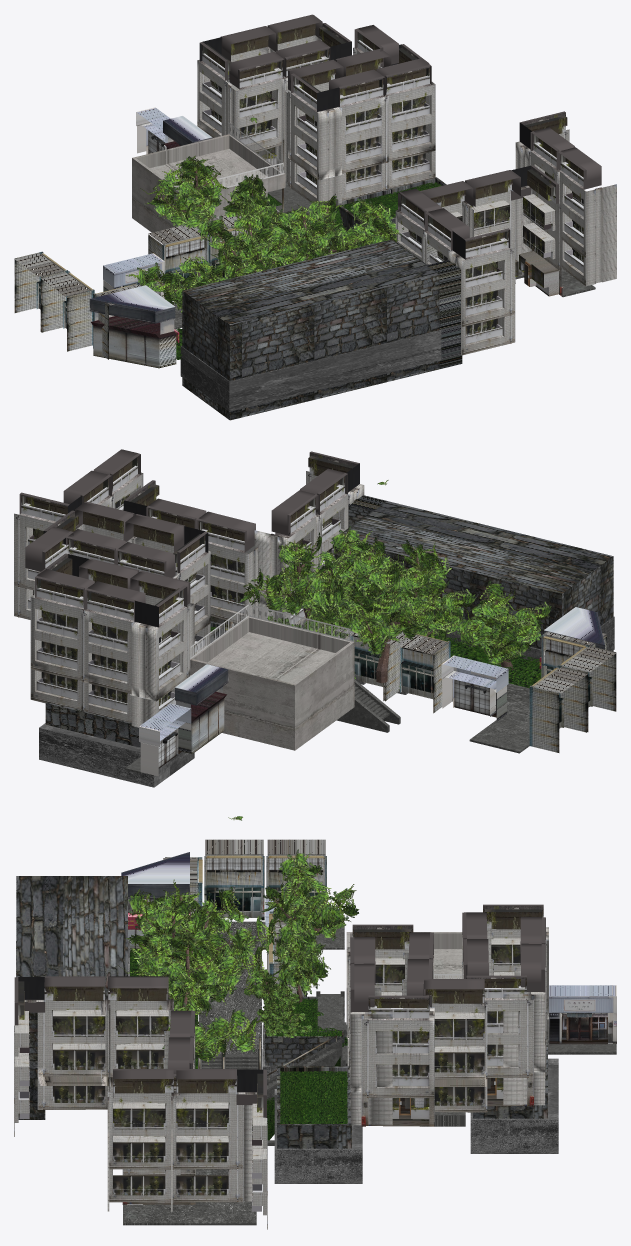
The model's file is city_street (1).glb.
The picture shows the model from 3 angles, top to bottom: view 1: azimuth 30°, elevation 25°; view 2: azimuth 150°, elevation 25°; view 3: azimuth 270°, elevation 25°; orthographic projection. The views are drawn at different scales.
Parts seen in each view (by area): view 1: Cube.026, c83d86f3dd59d547cc310ce502d8f9ac.004_c83d86f3dd59d547cc310ce, c83d86f3dd59d547cc310ce502d8f9ac.005_c83d86f3dd59d547cc310ce, c83d86f3dd59d547cc310ce502d8f9ac.002_c83d86f3dd59d547cc310ce, c83d86f3dd59d547cc310ce502d8f9ac.001_c83d86f3dd59d547cc310ce, c83d86f3dd59d547cc310ce502d8f9ac.003_c83d86f3dd59d547cc310ce, Cube.030, Cube.022, 3-Photoroom.001, object 4, object 2, object 3 (+11 smaller); view 2: c83d86f3dd59d547cc310ce502d8f9ac.005_c83d86f3dd59d547cc310ce, Cube.026, Cube.022, c83d86f3dd59d547cc310ce502d8f9ac.004_c83d86f3dd59d547cc310ce, c83d86f3dd59d547cc310ce502d8f9ac.002_c83d86f3dd59d547cc310ce, c83d86f3dd59d547cc310ce502d8f9ac.001_c83d86f3dd59d547cc310ce, c83d86f3dd59d547cc310ce502d8f9ac.003_c83d86f3dd59d547cc310ce, Cube.033, object 3, object 2, 22 (1).001, 3-Photoroom.003 (+15 smaller); view 3: c83d86f3dd59d547cc310ce502d8f9ac.003_c83d86f3dd59d547cc310ce, c83d86f3dd59d547cc310ce502d8f9ac.002_c83d86f3dd59d547cc310ce, c83d86f3dd59d547cc310ce502d8f9ac.004_c83d86f3dd59d547cc310ce, c83d86f3dd59d547cc310ce502d8f9ac.005_c83d86f3dd59d547cc310ce, Cube.026, c83d86f3dd59d547cc310ce502d8f9ac.006_c83d86f3dd59d547cc310ce, object 4, 22 (1).002, Cube.033, Cube.009, Plane.009, Cube.011 (+16 smaller).
Part boxes in pixels (x1=…): Cube.026: x1=182, y1=239, x2=462, y2=420; c83d86f3dd59d547cc310ce502d8f9ac.004_c83d86f3dd59d547cc310ce: x1=284, y1=44, x2=435, y2=203; c83d86f3dd59d547cc310ce502d8f9ac.005_c83d86f3dd59d547cc310ce: x1=197, y1=14, x2=351, y2=169; c83d86f3dd59d547cc310ce502d8f9ac.002_c83d86f3dd59d547cc310ce: x1=395, y1=188, x2=515, y2=355; c83d86f3dd59d547cc310ce502d8f9ac.001_c83d86f3dd59d547cc310ce: x1=420, y1=165, x2=562, y2=296; c83d86f3dd59d547cc310ce502d8f9ac.003_c83d86f3dd59d547cc310ce: x1=515, y1=111, x2=616, y2=286; Cube.030: x1=180, y1=330, x2=441, y2=411; Cube.022: x1=132, y1=134, x2=285, y2=232; 3-Photoroom.001: x1=89, y1=285, x2=179, y2=368; object 4: x1=41, y1=271, x2=94, y2=351; object 2: x1=148, y1=225, x2=208, y2=298; object 3: x1=14, y1=251, x2=67, y2=331; c83d86f3dd59d547cc310ce502d8f9ac.005_c83d86f3dd59d547cc310ce: x1=30, y1=553, x2=194, y2=727; Cube.026: x1=334, y1=495, x2=613, y2=651; Cube.022: x1=190, y1=616, x2=354, y2=750; c83d86f3dd59d547cc310ce502d8f9ac.004_c83d86f3dd59d547cc310ce: x1=43, y1=501, x2=210, y2=654; c83d86f3dd59d547cc310ce502d8f9ac.002_c83d86f3dd59d547cc310ce: x1=245, y1=451, x2=364, y2=624; c83d86f3dd59d547cc310ce502d8f9ac.001_c83d86f3dd59d547cc310ce: x1=123, y1=480, x2=258, y2=631; c83d86f3dd59d547cc310ce502d8f9ac.003_c83d86f3dd59d547cc310ce: x1=14, y1=449, x2=143, y2=619; Cube.033: x1=39, y1=723, x2=194, y2=787; object 3: x1=529, y1=666, x2=587, y2=752; object 2: x1=385, y1=631, x2=450, y2=713; 22 (1).001: x1=441, y1=655, x2=508, y2=721; 3-Photoroom.003: x1=175, y1=664, x2=228, y2=753; c83d86f3dd59d547cc310ce502d8f9ac.003_c83d86f3dd59d547cc310ce: x1=107, y1=1069, x2=267, y2=1229; c83d86f3dd59d547cc310ce502d8f9ac.002_c83d86f3dd59d547cc310ce: x1=14, y1=976, x2=173, y2=1136; c83d86f3dd59d547cc310ce502d8f9ac.004_c83d86f3dd59d547cc310ce: x1=347, y1=924, x2=434, y2=1126; c83d86f3dd59d547cc310ce502d8f9ac.005_c83d86f3dd59d547cc310ce: x1=462, y1=904, x2=548, y2=1106; Cube.026: x1=16, y1=876, x2=127, y2=1119; c83d86f3dd59d547cc310ce502d8f9ac.006_c83d86f3dd59d547cc310ce: x1=423, y1=979, x2=487, y2=1112; object 4: x1=204, y1=839, x2=264, y2=920; 22 (1).002: x1=548, y1=985, x2=616, y2=1044; Cube.033: x1=470, y1=1058, x2=558, y2=1153; Cube.009: x1=274, y1=1089, x2=362, y2=1183; Plane.009: x1=280, y1=1071, x2=347, y2=1123; Cube.011: x1=198, y1=921, x2=344, y2=1054.
Size of the model in its own units: 45.31 by 17.11 by 38.09.
16 materials, 16 textured.
